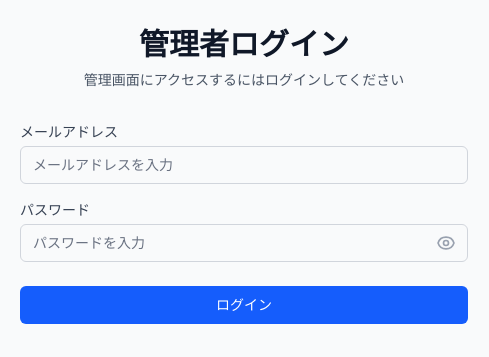
Scenario: Login › should validate password length
Type "test@example.com" into the field labelled "メールアドレス". click: (244, 165)
box: [20,146,468,184]
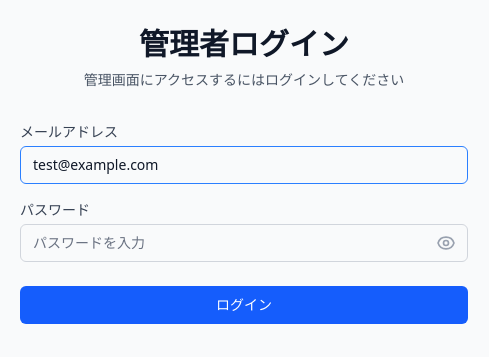
Type "123" into the password field labelled "パスワード". click: (244, 243)
box: [20,224,468,262]
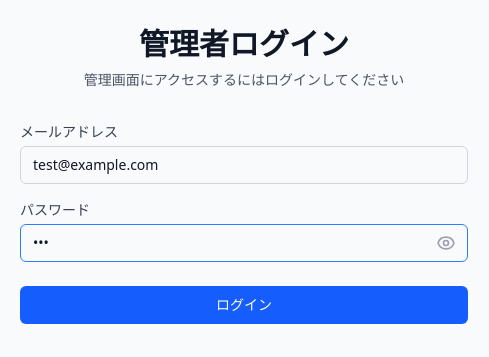
Click the button "ログイン". click: (244, 305)
box: [20,286,468,324]
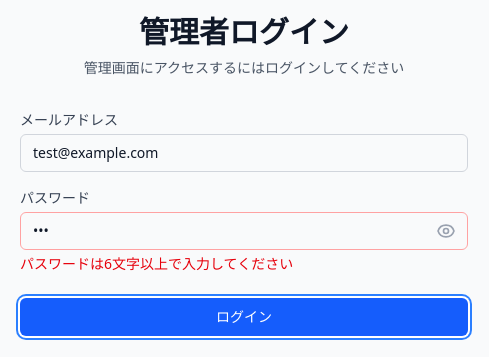
Now the text "パスワードは6文字以上で入力してください" is shown, box [20,254,293,273]
